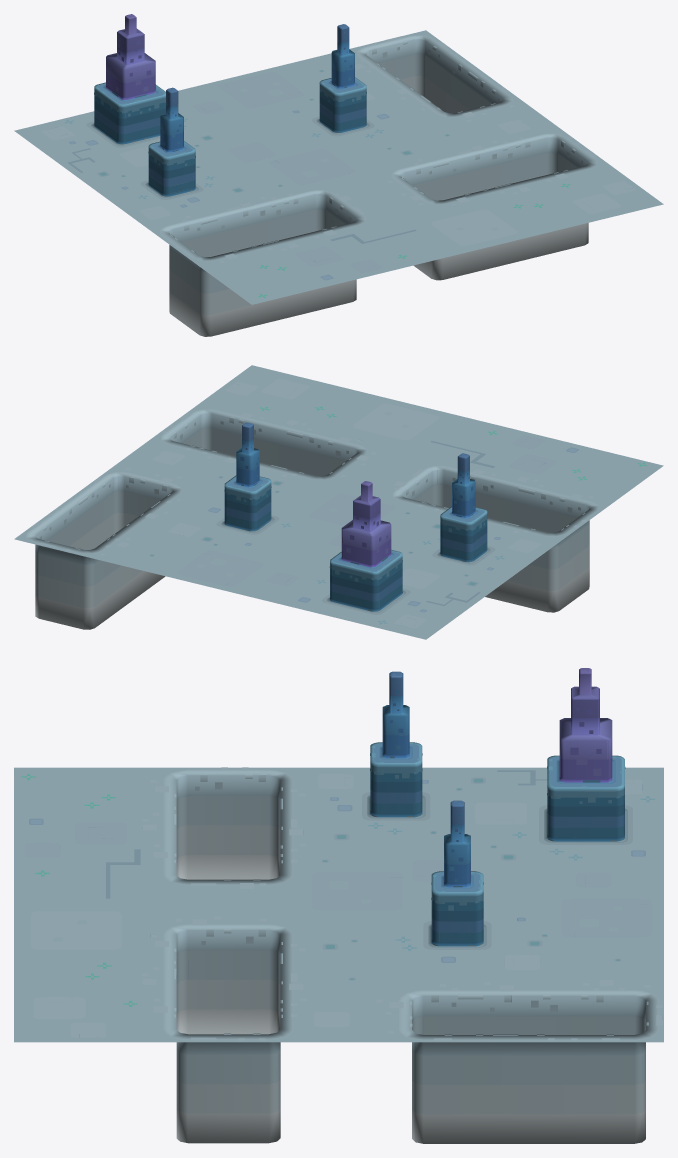
The model's file is C_mountain2_05.fbx.
3 renders of one model, top to bottom at view 1: azimuth 30°, elevation 25°; view 2: azimuth 150°, elevation 25°; view 3: azimuth 270°, elevation 25°, orthographic. The views are drawn at different scales.
Visible parts, largest first — view 1: C_mountain2_05.002; view 2: C_mountain2_05.002; view 3: C_mountain2_05.002.
Boxes of the visible parts, x1,y1,x2,y2 form: C_mountain2_05.002: (14, 14, 663, 336); C_mountain2_05.002: (14, 365, 663, 639); C_mountain2_05.002: (14, 668, 663, 1143).
Size of the model in its own units: 50 by 22.52 by 50.
